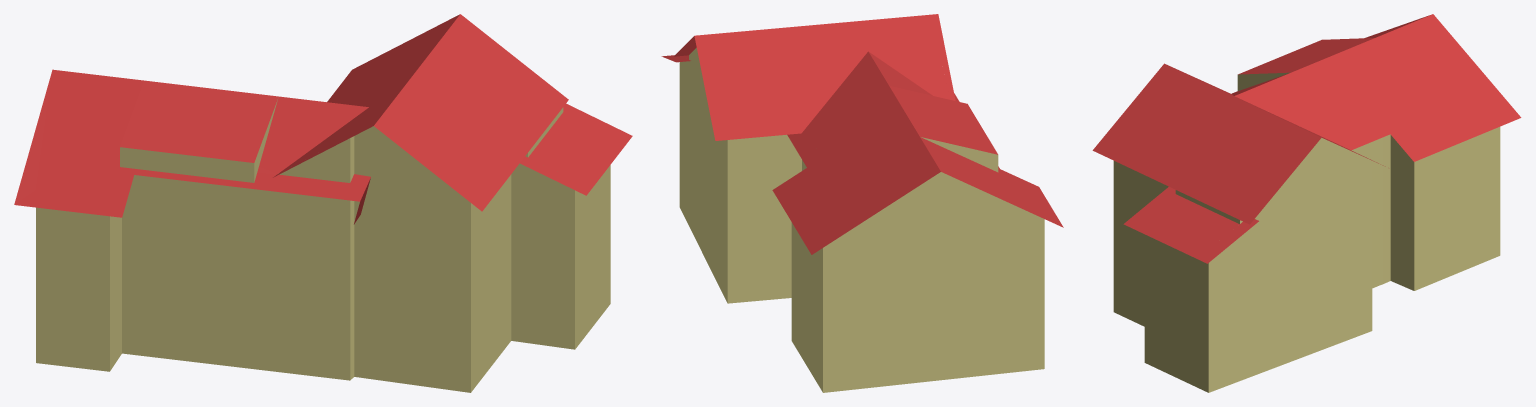
The picture shows the model from 3 angles, left to right: view 1: azimuth 30°, elevation 25°; view 2: azimuth 150°, elevation 25°; view 3: azimuth 270°, elevation 25°; orthographic projection. The views are drawn at different scales.
Parts seen in each view (by area): view 1: group_5, group_11, group_3, group_7, group_15, group_8, group_13, group_4, group_9, group_10, group_14; view 2: group_11, group_7, group_3, group_5, group_8, group_15, group_10, group_9, group_4; view 3: group_5, group_7, group_3, group_11, group_15, group_13, group_4, group_8, group_10, group_14, group_9.
Boxes of the visible parts, <box> form: group_5: <box>266,107,563,392</box>; group_11: <box>36,175,266,371</box>; group_3: <box>273,14,568,211</box>; group_7: <box>14,69,370,217</box>; group_15: <box>528,158,610,349</box>; group_8: <box>120,80,278,162</box>; group_13: <box>520,103,632,195</box>; group_4: <box>290,15,567,211</box>; group_9: <box>120,99,277,182</box>; group_10: <box>15,76,359,217</box>; group_14: <box>521,135,631,195</box>; group_11: <box>791,166,1044,392</box>; group_7: <box>772,51,1063,254</box>; group_3: <box>674,14,955,140</box>; group_5: <box>689,48,805,303</box>; group_8: <box>889,86,997,154</box>; group_15: <box>679,61,688,225</box>; group_10: <box>773,93,1060,249</box>; group_9: <box>921,137,998,172</box>; group_4: <box>675,16,952,140</box>; group_5: <box>1113,138,1372,380</box>; group_7: <box>1232,14,1521,161</box>; group_3: <box>1093,63,1383,224</box>; group_11: <box>1351,127,1500,290</box>; group_15: <box>1144,234,1239,392</box>; group_13: <box>1123,187,1258,263</box>; group_4: <box>1093,67,1382,224</box>; group_8: <box>1238,38,1374,74</box>; group_10: <box>1231,20,1519,160</box>; group_14: <box>1125,189,1208,261</box>; group_9: <box>1237,72,1290,90</box>.
Bounding box in the file's own units: 26.16 × 21.5 × 12.22.
